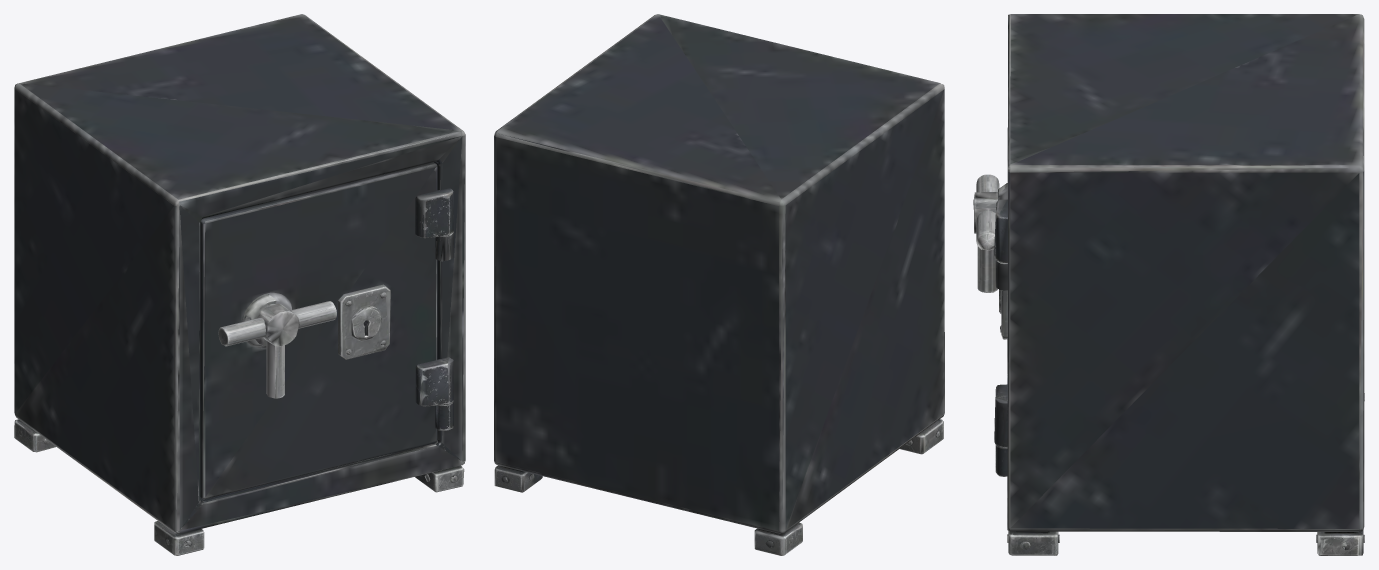
File: safe_tier_2_steel_office.glb
The picture shows the model from 3 angles, left to right: view 1: azimuth 30°, elevation 25°; view 2: azimuth 150°, elevation 25°; view 3: azimuth 270°, elevation 25°; orthographic projection. The views are drawn at different scales.
Visible parts, largest first — view 1: Meshy_AI_safe_tier_2_steel_office_3d_20261027_texture; view 2: Meshy_AI_safe_tier_2_steel_office_3d_20261027_texture; view 3: Meshy_AI_safe_tier_2_steel_office_3d_20261027_texture.
Boxes of the visible parts, x1,y1,x2,y2 form: Meshy_AI_safe_tier_2_steel_office_3d_20261027_texture: (14,14,465,555); Meshy_AI_safe_tier_2_steel_office_3d_20261027_texture: (494,14,944,555); Meshy_AI_safe_tier_2_steel_office_3d_20261027_texture: (973,14,1364,555).
Size of the model in its own units: 1.12 by 1.3 by 1.18.
1 material, 1 textured.
